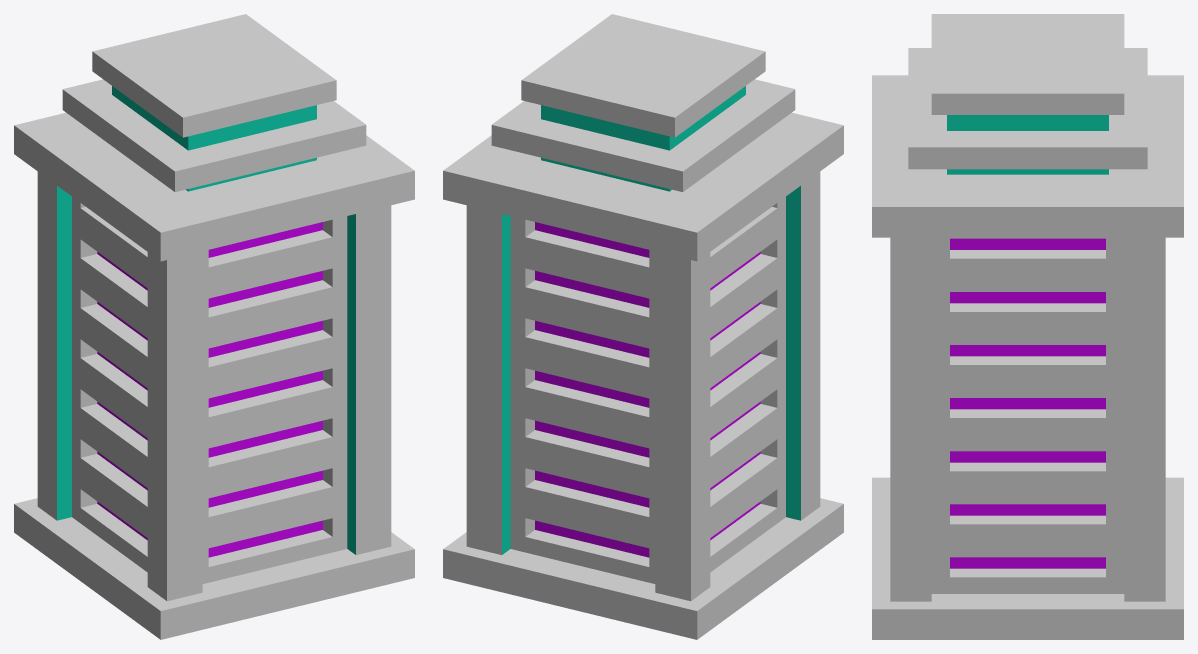
The model's file is SM_Building_Short_3.fbx.
3 renders of one model, left to right at view 1: azimuth 30°, elevation 25°; view 2: azimuth 150°, elevation 25°; view 3: azimuth 270°, elevation 25°, orthographic. The views are drawn at different scales.
Parts seen in each view (by area): view 1: building_08.007; view 2: building_08.007; view 3: building_08.007.
Part boxes in pixels (<box>): building_08.007: <box>14,14,414,639</box>; building_08.007: <box>443,14,843,639</box>; building_08.007: <box>872,14,1183,639</box>.
Bounding box in the file's own units: 10.44 × 19.23 × 10.44.
